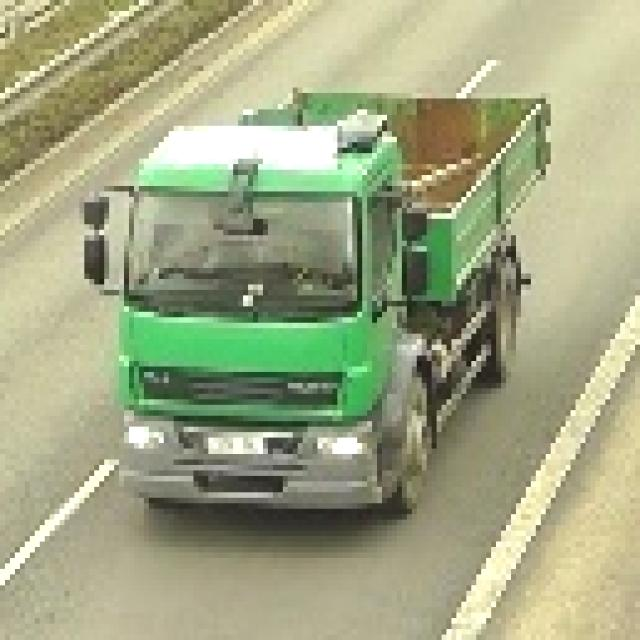truck: (85, 83, 547, 515)
